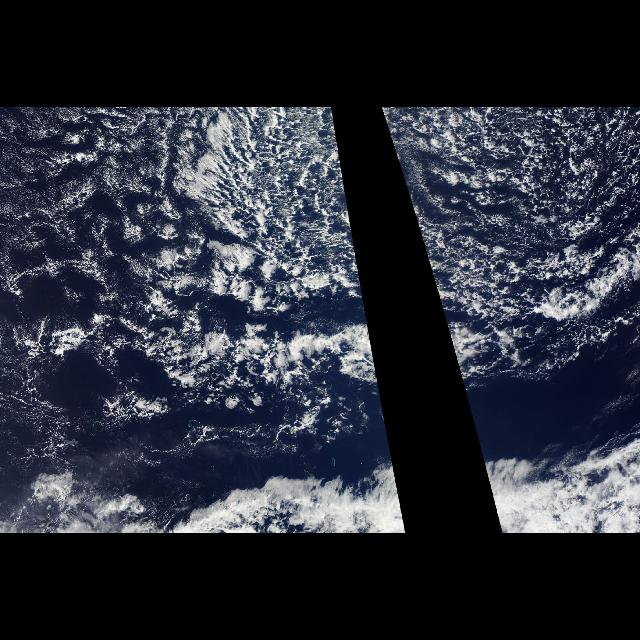Gravel: (127, 110, 387, 420), (382, 110, 632, 420)
Sugar: (0, 109, 328, 467), (420, 113, 636, 320)
